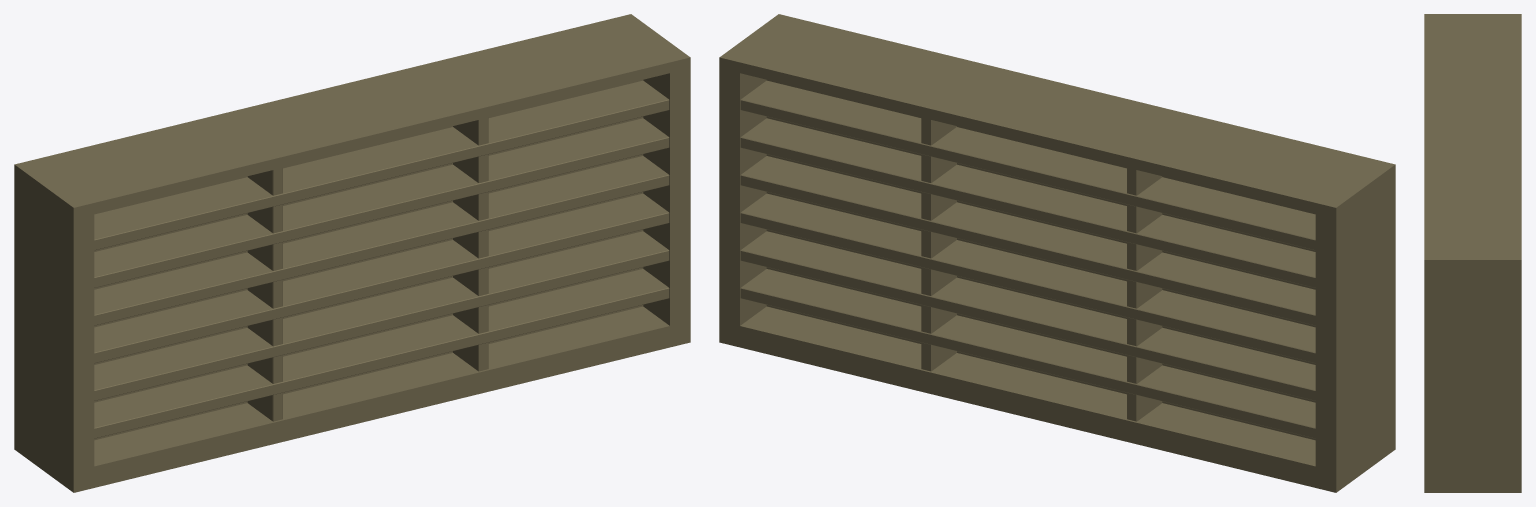
File: estante.glb
3 renders of one model, left to right at view 1: azimuth 30°, elevation 25°; view 2: azimuth 150°, elevation 25°; view 3: azimuth 270°, elevation 25°, orthographic. The views are drawn at different scales.
Parts seen in each view (by area): view 1: EstanteLibros; view 2: EstanteLibros; view 3: EstanteLibros.
Part boxes in pixels (box(x1,y1,x2,y2)): EstanteLibros: box(14, 14, 690, 492); EstanteLibros: box(719, 14, 1395, 492); EstanteLibros: box(1424, 14, 1521, 492).
Bounding box in the file's own units: 6 × 2.65 × 1.
